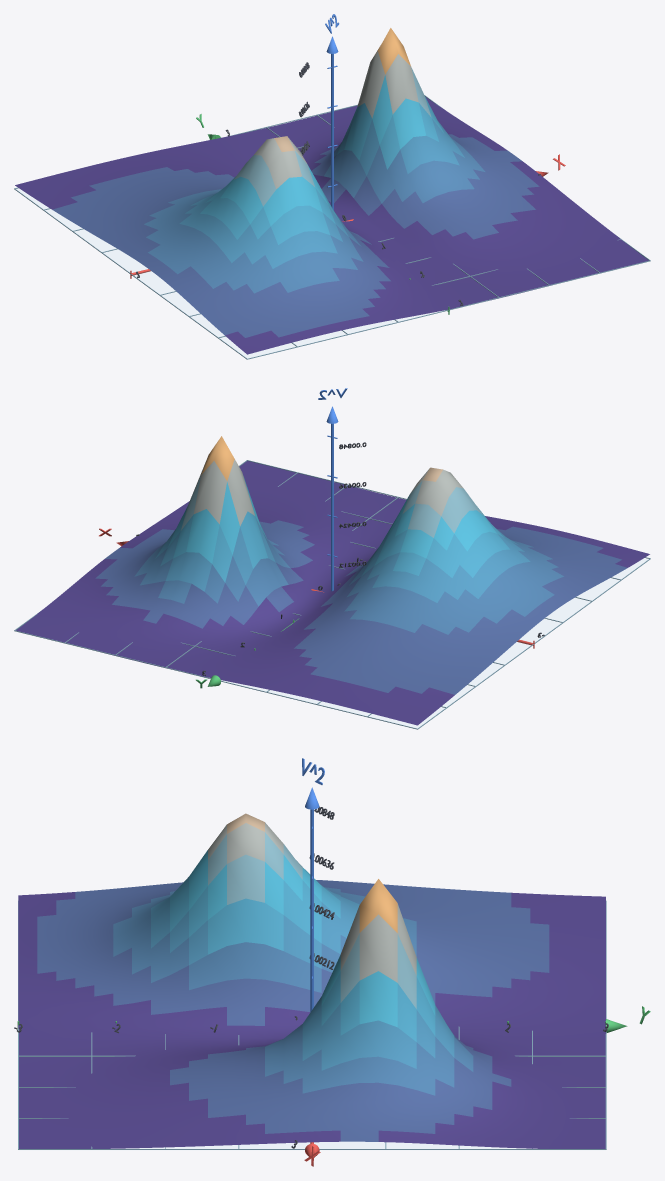
The model's file is 5points_observation_VSQ.glb.
3 views of the same model, one above another, from view 1: azimuth 30°, elevation 25°; view 2: azimuth 150°, elevation 25°; view 3: azimuth 270°, elevation 25° (orthographic). The views are drawn at different scales.
Parts seen in each view (by area): view 1: Potential_Surface_V2, Grid; view 2: Potential_Surface_V2, Grid, Axis_V2; view 3: Potential_Surface_V2, Grid, Axis_V2.
Part boxes in pixels (x1,y1,x2,y2): Potential_Surface_V2: (15,28,648,354); Grid: (14,95,650,359); Potential_Surface_V2: (16,436,649,725); Grid: (14,460,650,729); Axis_V2: (331,424,333,591); Potential_Surface_V2: (18,813,605,1148); Grid: (18,900,606,1149); Axis_V2: (310,809,313,1011).
Bounding box in the file's own units: 6.51 × 3.02 × 6.5.
